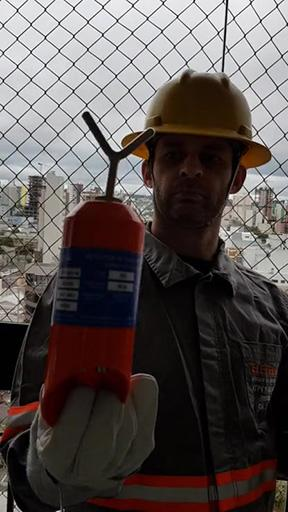Detector_Tensao_Contato: (39, 110, 157, 426)
